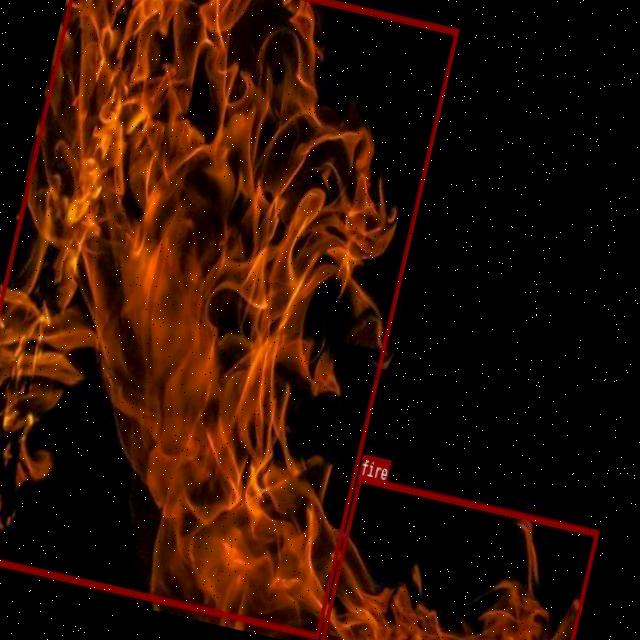fire: (0, 0, 458, 637), (319, 474, 597, 640)
